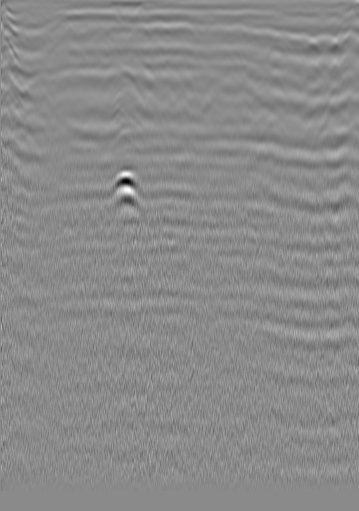가스: (96, 163, 154, 203)
상수: (35, 20, 55, 40)
오수: (285, 23, 305, 43)
우수: (176, 28, 196, 48)
